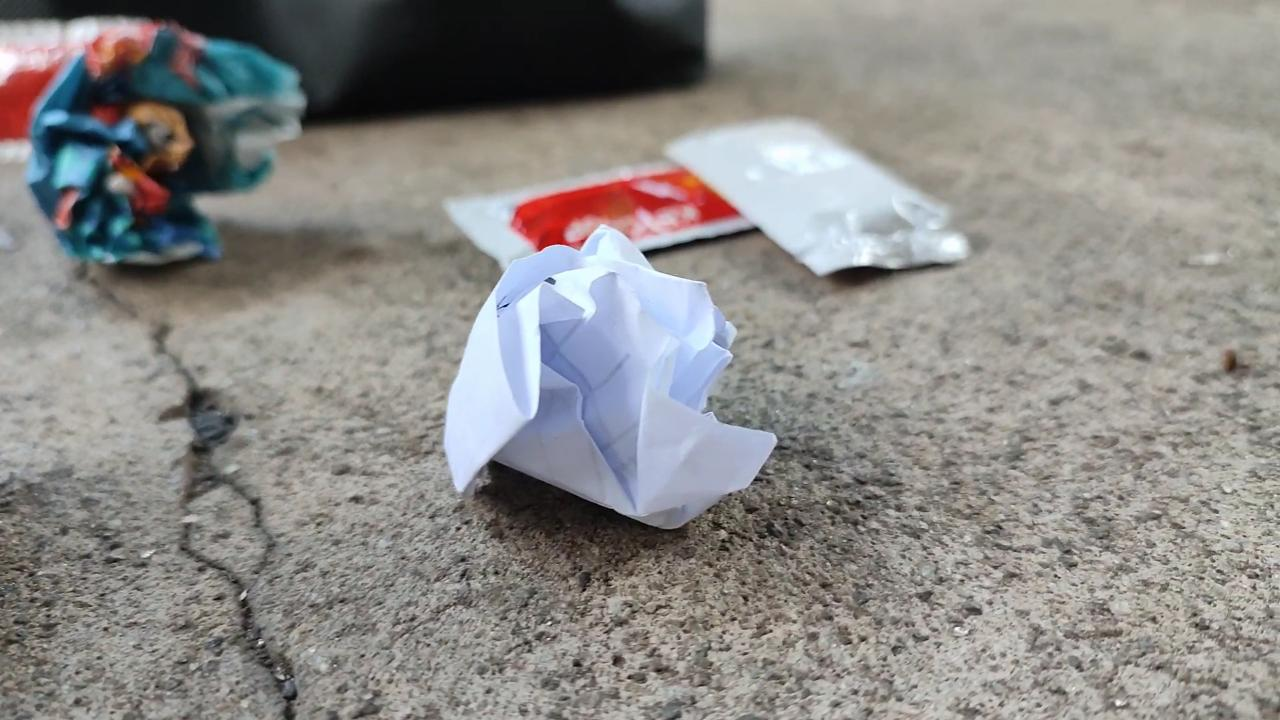paper: (444, 228, 774, 527)
